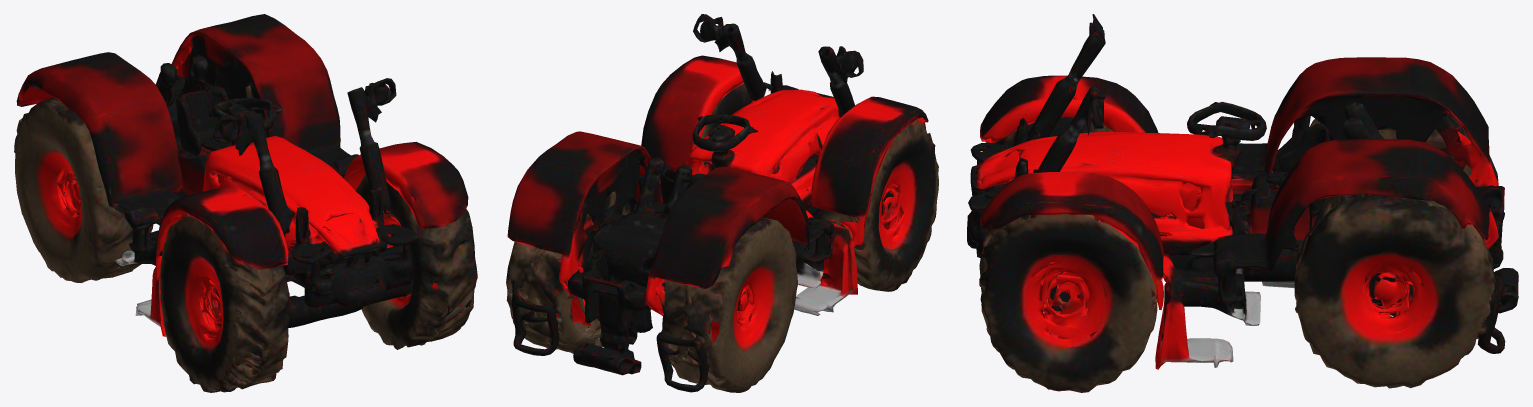
The model's file is tractor_4.glb.
The picture shows the model from 3 angles, left to right: view 1: azimuth 30°, elevation 25°; view 2: azimuth 150°, elevation 25°; view 3: azimuth 270°, elevation 25°; orthographic projection. The views are drawn at different scales.
Parts seen in each view (by area): view 1: world; view 2: world; view 3: world.
Boxes of the visible parts, x1,y1,x2,y2 form: world: (14,14,477,392); world: (506,14,938,392); world: (967,14,1518,392).
Size of the model in its own units: 0.5619 by 0.5567 by 1.
1 material, 1 textured.
